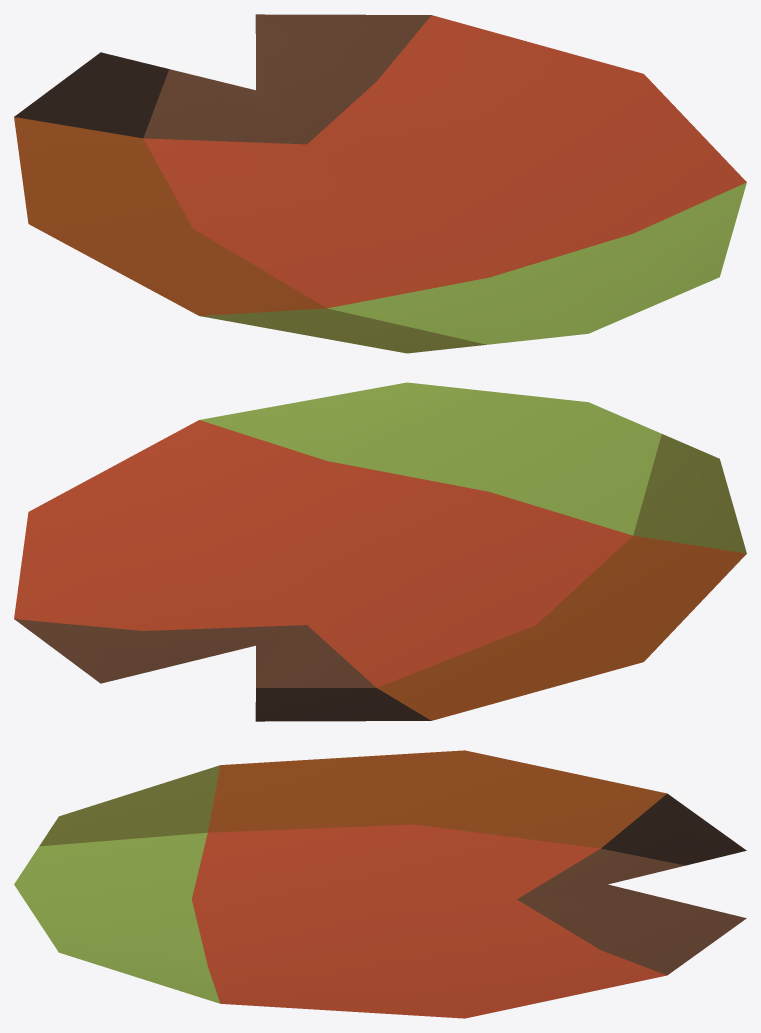
The model's file is itch_assetquest_pond_water_lily_leaf_3.glb.
3 views of the same model, one above another, from view 1: azimuth 30°, elevation 25°; view 2: azimuth 150°, elevation 25°; view 3: azimuth 270°, elevation 25° (orthographic). The views are drawn at different scales.
Parts seen in each view (by area): view 1: Water_Lily_Leaf_3; view 2: Water_Lily_Leaf_3; view 3: Water_Lily_Leaf_3.
Part boxes in pixels (bbox=[...]): Water_Lily_Leaf_3: bbox=[14, 14, 746, 353]; Water_Lily_Leaf_3: bbox=[14, 382, 746, 721]; Water_Lily_Leaf_3: bbox=[14, 750, 746, 1018].
Size of the model in its own units: 0.8312 by 0.0216 by 0.96.
